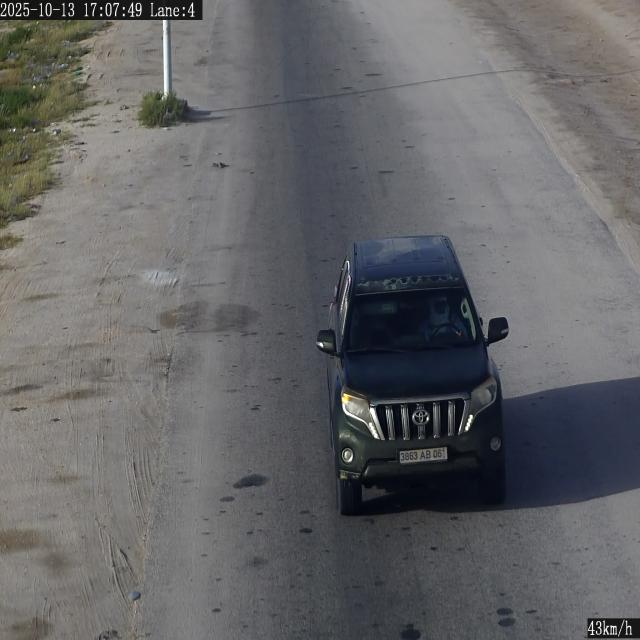BUS: (398, 447, 448, 464)
